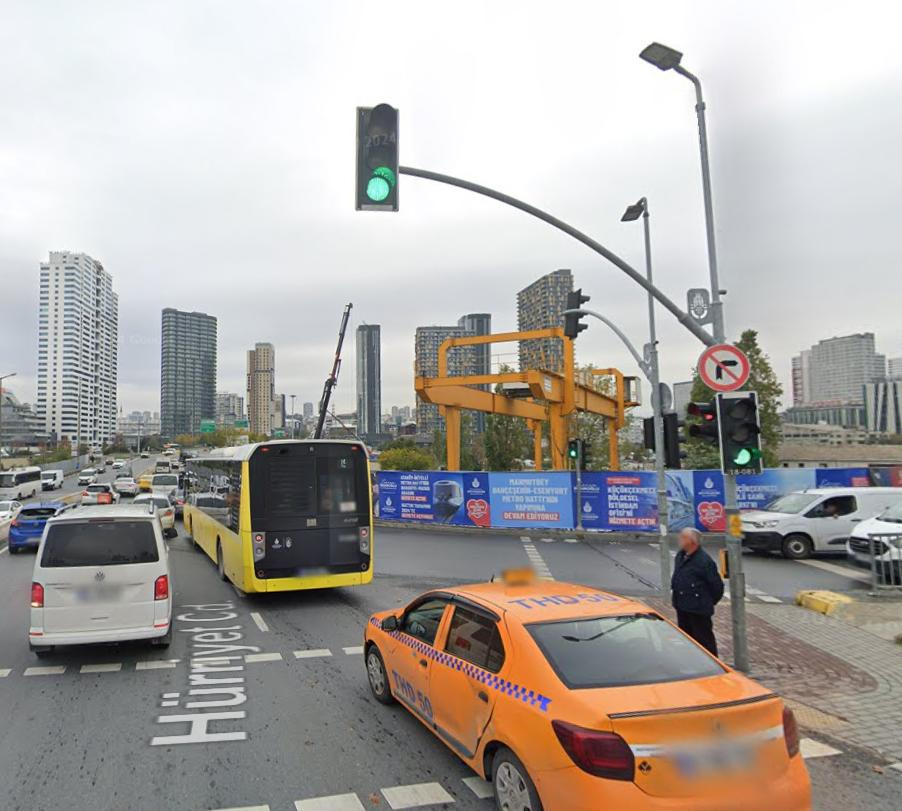greenlight: (360, 107, 392, 206), (723, 396, 764, 471)
rightturnsareforbidden: (704, 347, 750, 394)
